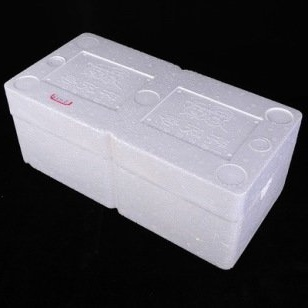5/可回收垃圾/泡沫: (3, 32, 302, 270)
